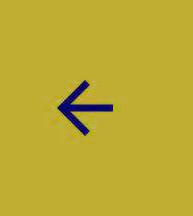ImgButton: (1, 1, 192, 215)
